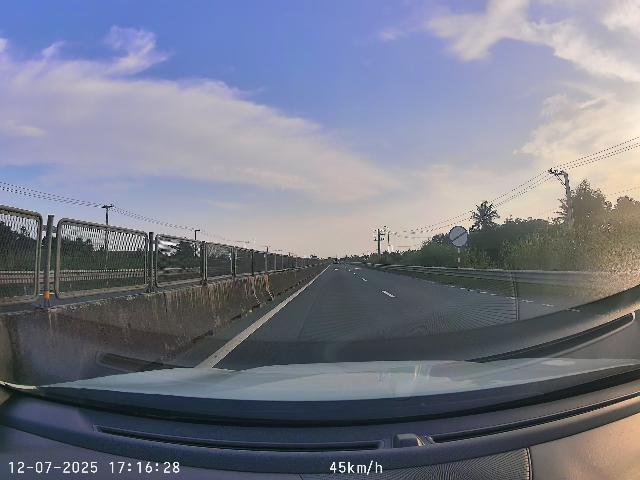135-het-tat-ca-cac-lenh-cam: (449, 225, 469, 247)
